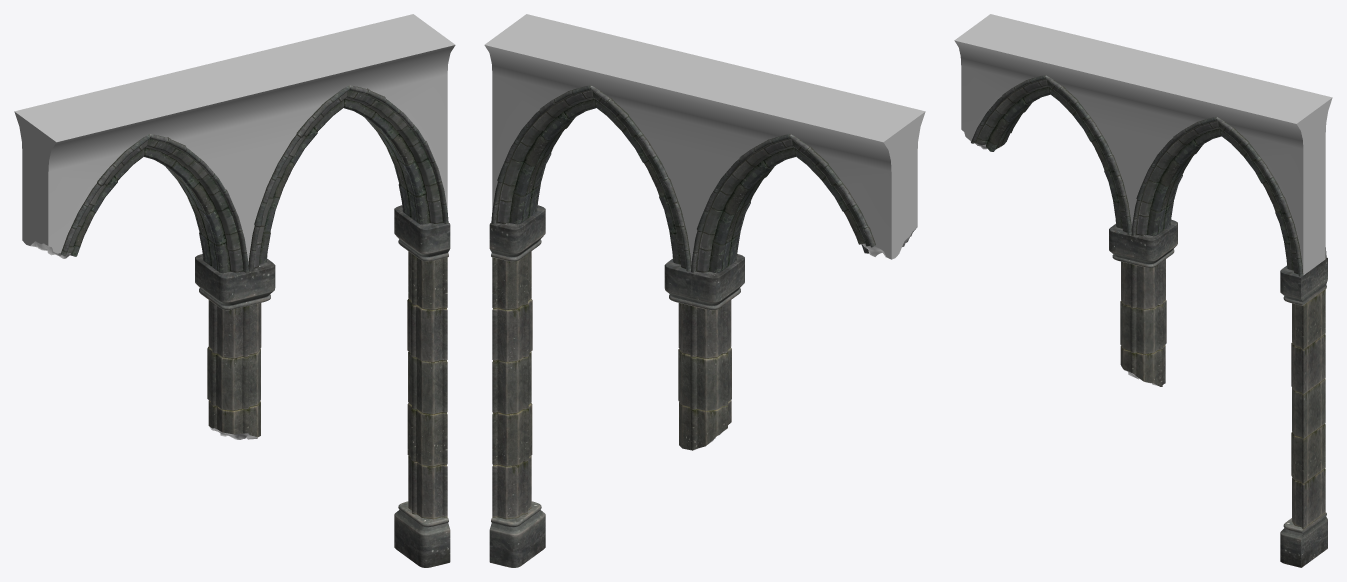
The picture shows the model from 3 angles, left to right: view 1: azimuth 30°, elevation 25°; view 2: azimuth 150°, elevation 25°; view 3: azimuth 330°, elevation 25°; orthographic projection. The views are drawn at different scales.
Parts seen in each view (by area): view 1: SM_SaradominTemple_Arch_dmg_12x16_01_v2_LOD0; view 2: SM_SaradominTemple_Arch_dmg_12x16_01_v2_LOD0; view 3: SM_SaradominTemple_Arch_dmg_12x16_01_v2_LOD0.
Boxes of the visible parts, box(x1,y1,x2,y2) form: SM_SaradominTemple_Arch_dmg_12x16_01_v2_LOD0: box(14, 14, 455, 567); SM_SaradominTemple_Arch_dmg_12x16_01_v2_LOD0: box(484, 14, 925, 567); SM_SaradominTemple_Arch_dmg_12x16_01_v2_LOD0: box(954, 14, 1332, 567).
Bounding box in the file's own units: 12 × 15 × 2.2.
